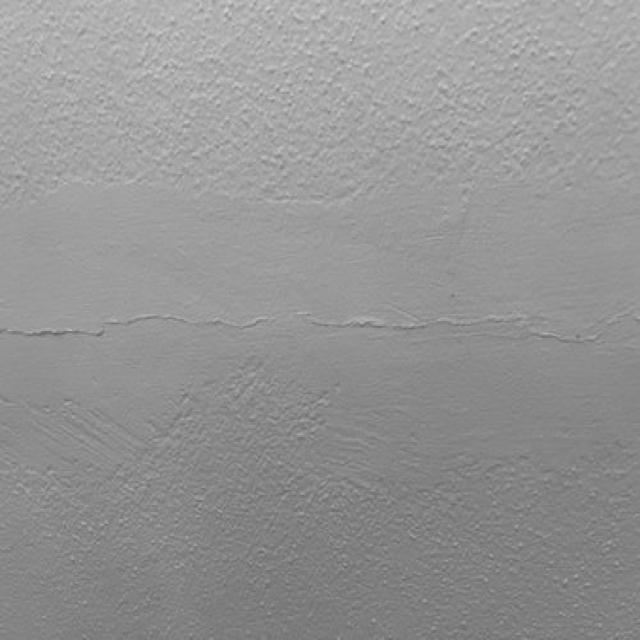trowels marks: (1, 160, 640, 495)
